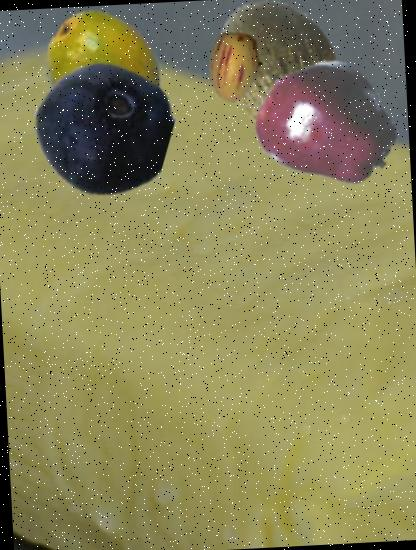Apple: (256, 51, 402, 197)
Blueberry: (30, 57, 174, 202)
Maracuja: (39, 7, 167, 135)
Melon: (206, 0, 355, 142)
Pepino: (198, 28, 274, 104)
